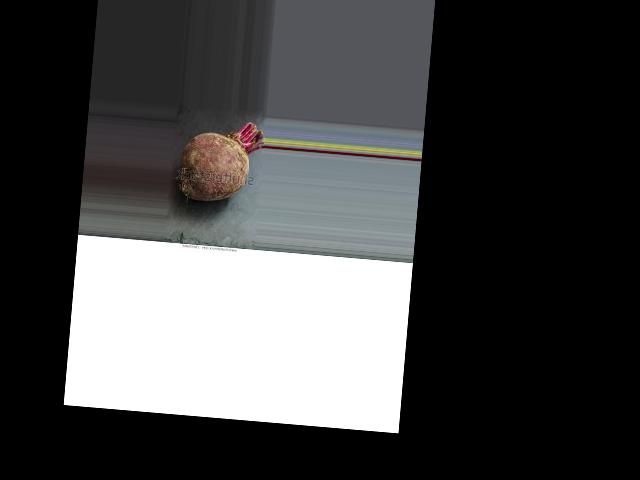beet: (176, 117, 265, 205)
